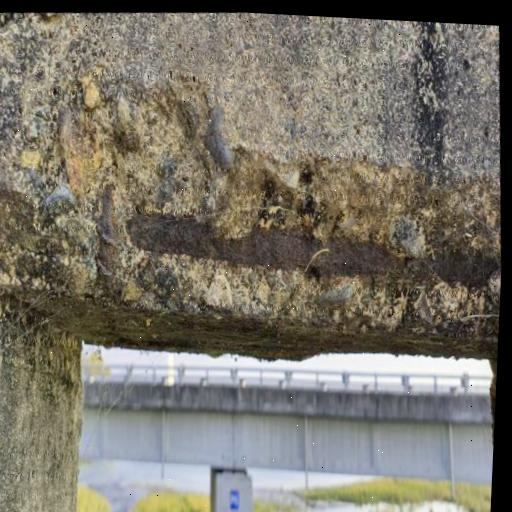exposed_rebar: (95, 186, 116, 287)
spalling: (16, 69, 501, 333)
